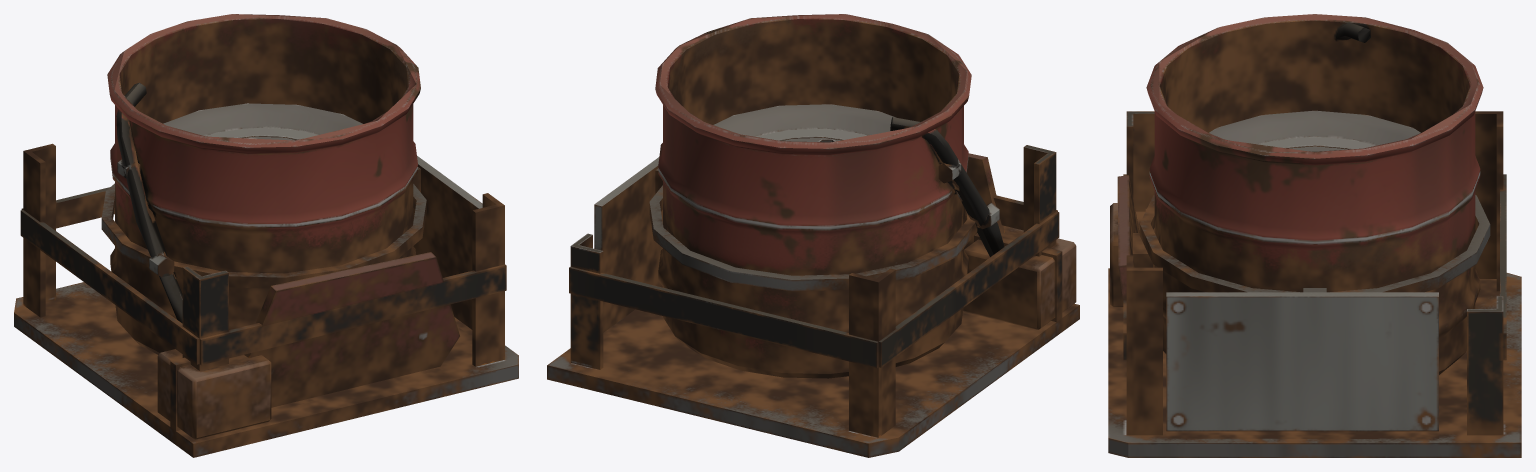
Rendered from R4X_FlyingDroneDeployer_LOD1.glb.
3 views of the same model, side by side, from view 1: azimuth 30°, elevation 25°; view 2: azimuth 150°, elevation 25°; view 3: azimuth 270°, elevation 25° (orthographic). The views are drawn at different scales.
Visible parts, largest first — view 1: R4X_FlyingDroneDeployer_LOD1; view 2: R4X_FlyingDroneDeployer_LOD1; view 3: R4X_FlyingDroneDeployer_LOD1.
Part boxes in pixels (<box>): R4X_FlyingDroneDeployer_LOD1: <box>14,14,518,457</box>; R4X_FlyingDroneDeployer_LOD1: <box>547,14,1079,457</box>; R4X_FlyingDroneDeployer_LOD1: <box>1108,14,1521,457</box>.
Bounding box in the file's own units: 0.5 × 0.3879 × 0.5.
Materials: 1 (1 with a texture image).
